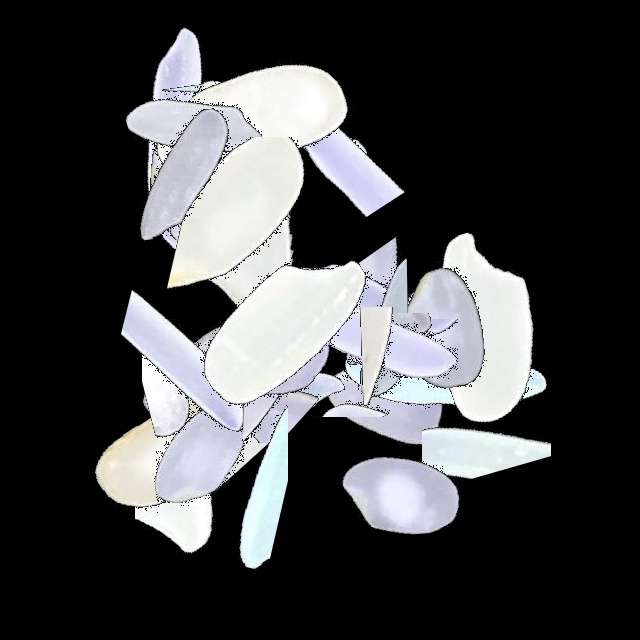Broken: (116, 239, 288, 489), (321, 208, 490, 458), (274, 371, 524, 539), (142, 137, 392, 302), (72, 37, 322, 200), (127, 269, 284, 519), (77, 231, 223, 481), (311, 221, 561, 364), (135, 365, 274, 615), (278, 24, 414, 274), (272, 204, 408, 454), (174, 124, 424, 256), (422, 282, 551, 532), (126, 318, 376, 443), (163, 348, 288, 598), (405, 197, 524, 447), (172, 285, 289, 535), (91, 83, 341, 198), (142, 249, 251, 499), (168, 385, 418, 487), (286, 307, 536, 405), (132, 335, 382, 431), (256, 313, 506, 406), (281, 319, 531, 406), (63, 73, 313, 157), (140, 160, 390, 244), (185, 70, 435, 153), (248, 338, 498, 417), (370, 256, 620, 335)
Full: (56, 15, 306, 265), (262, 278, 512, 528), (116, 254, 366, 504), (318, 252, 568, 502), (89, 301, 339, 551), (285, 202, 535, 452), (106, 74, 356, 324), (140, 45, 390, 295), (53, 324, 303, 574), (73, 331, 323, 581), (94, 49, 344, 299), (119, 93, 369, 343), (256, 191, 506, 441), (126, 0, 376, 250), (358, 202, 608, 452), (320, 204, 570, 454), (69, 0, 319, 250), (234, 203, 484, 453), (156, 228, 406, 478), (57, 47, 307, 297), (159, 196, 409, 446)
